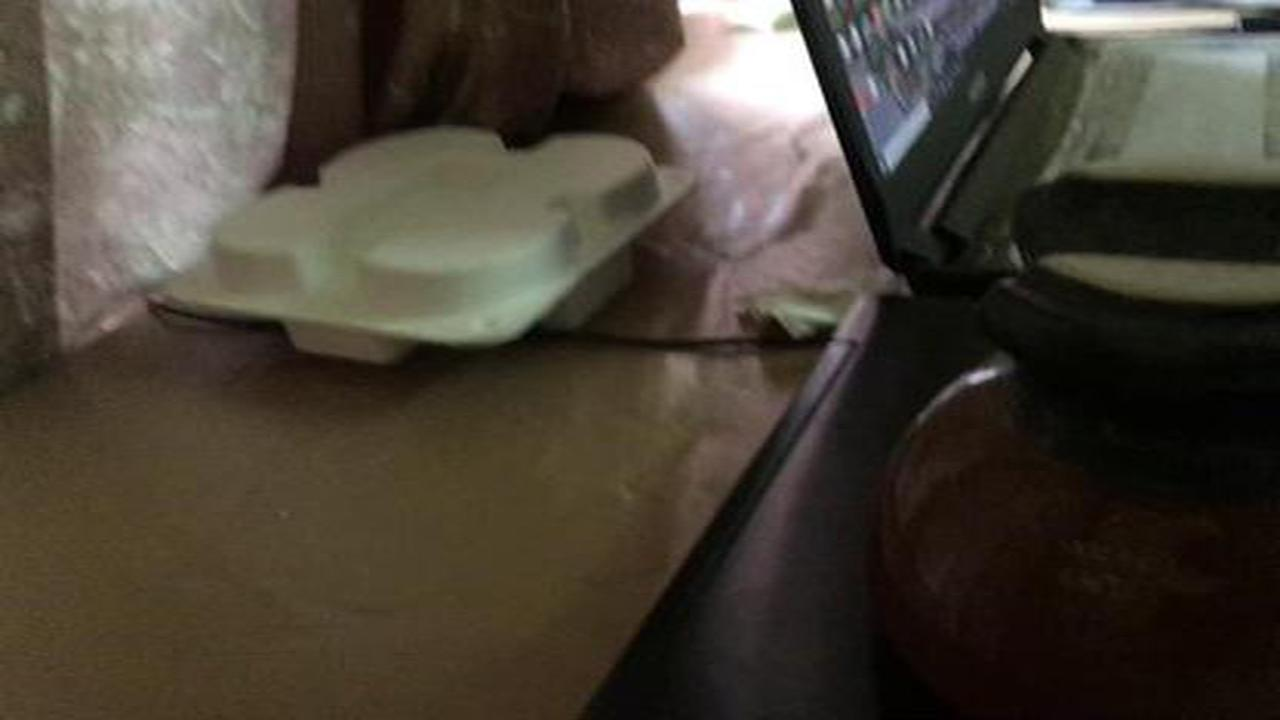insulator_pin: (853, 150, 1277, 719)
